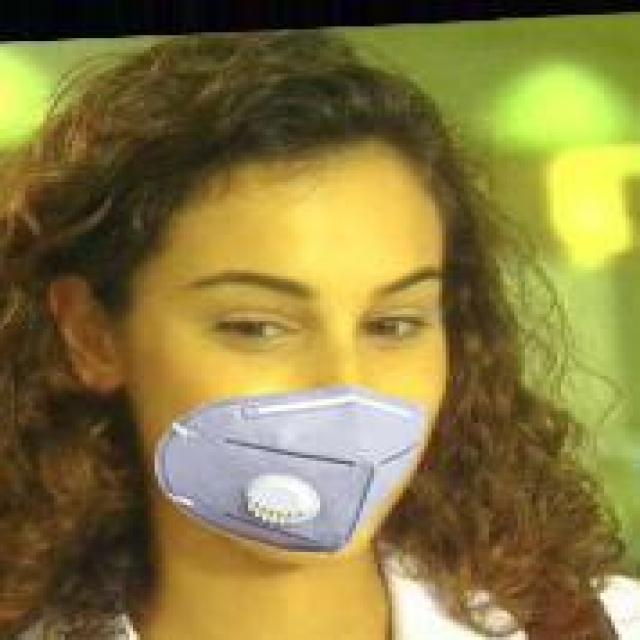mask: (0, 58, 539, 560)
